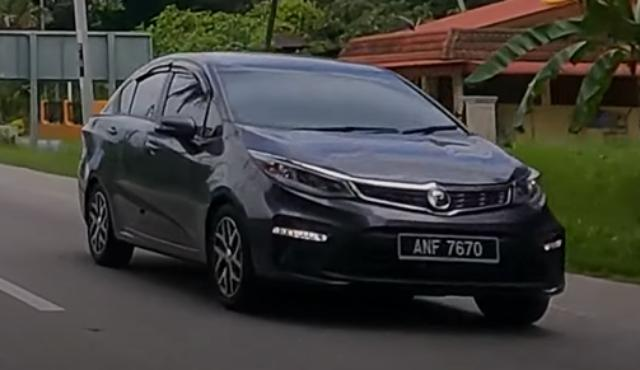License_Plate: (398, 233, 503, 264)
car: (77, 51, 568, 327)
